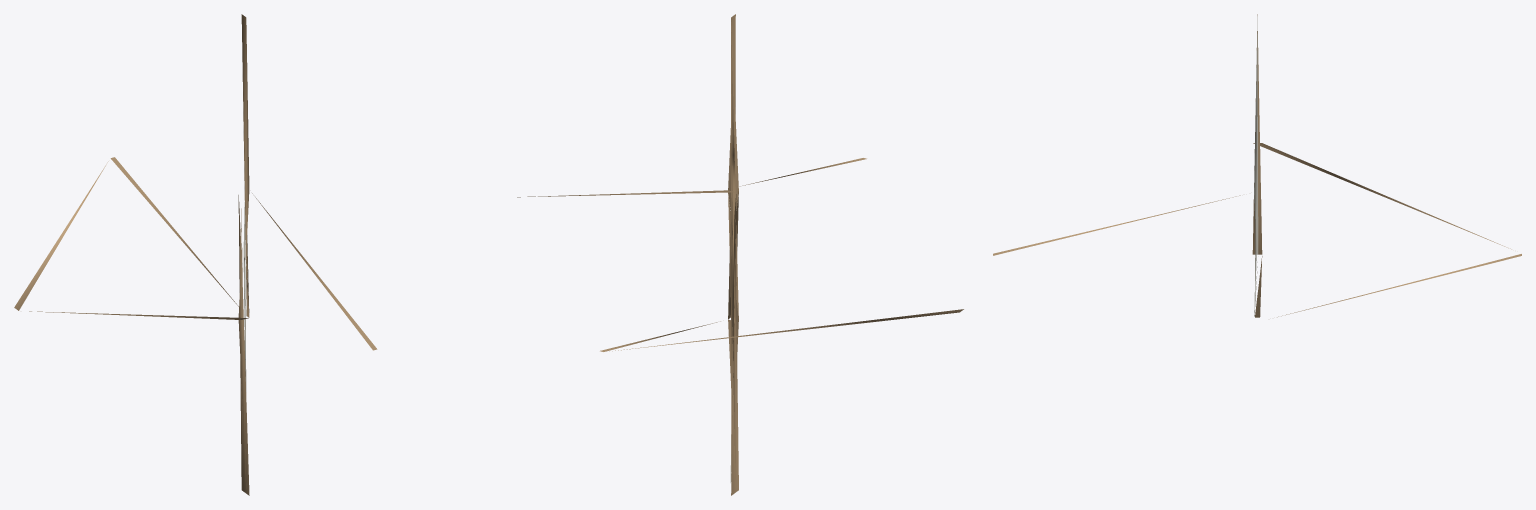
The model's file is equip_weapon_oak_shortbow.glb.
3 renders of one model, left to right at view 1: azimuth 30°, elevation 25°; view 2: azimuth 150°, elevation 25°; view 3: azimuth 270°, elevation 25°, orthographic.
Parts seen in each view (by area): view 1: equip_weapon_oak_shortbow; view 2: equip_weapon_oak_shortbow; view 3: equip_weapon_oak_shortbow.
Part boxes in pixels (x1,y1,x2,y2): equip_weapon_oak_shortbow: (14, 14, 377, 495); equip_weapon_oak_shortbow: (517, 14, 963, 495); equip_weapon_oak_shortbow: (993, 14, 1521, 317).
Size of the model in its own units: 2 by 2 by 2.
